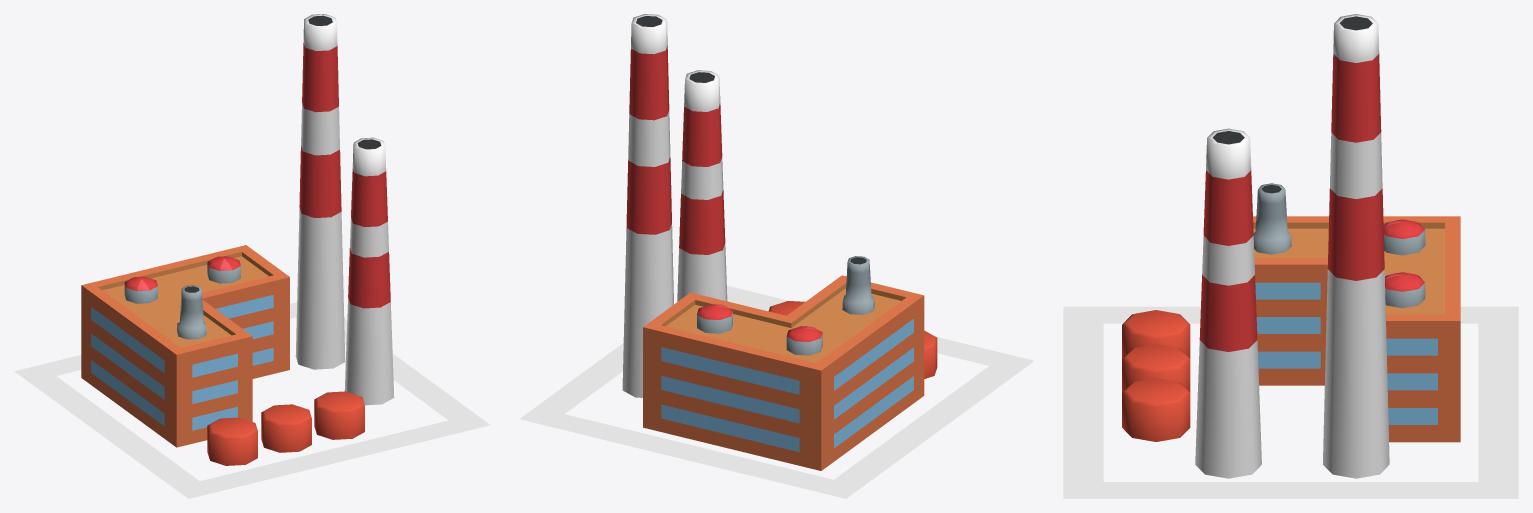
The model's file is factory1.fbx.
3 renders of one model, left to right at view 1: azimuth 30°, elevation 25°; view 2: azimuth 150°, elevation 25°; view 3: azimuth 270°, elevation 25°, orthographic. The views are drawn at different scales.
Parts seen in each view (by area): view 1: Factory; view 2: Factory; view 3: Factory.
Boxes of the visible parts, x1,y1,x2,y2 form: Factory: [14, 14, 490, 498]; Factory: [519, 14, 1034, 498]; Factory: [1063, 14, 1518, 498].
Bounding box in the file's own units: 238 × 255 × 238.
